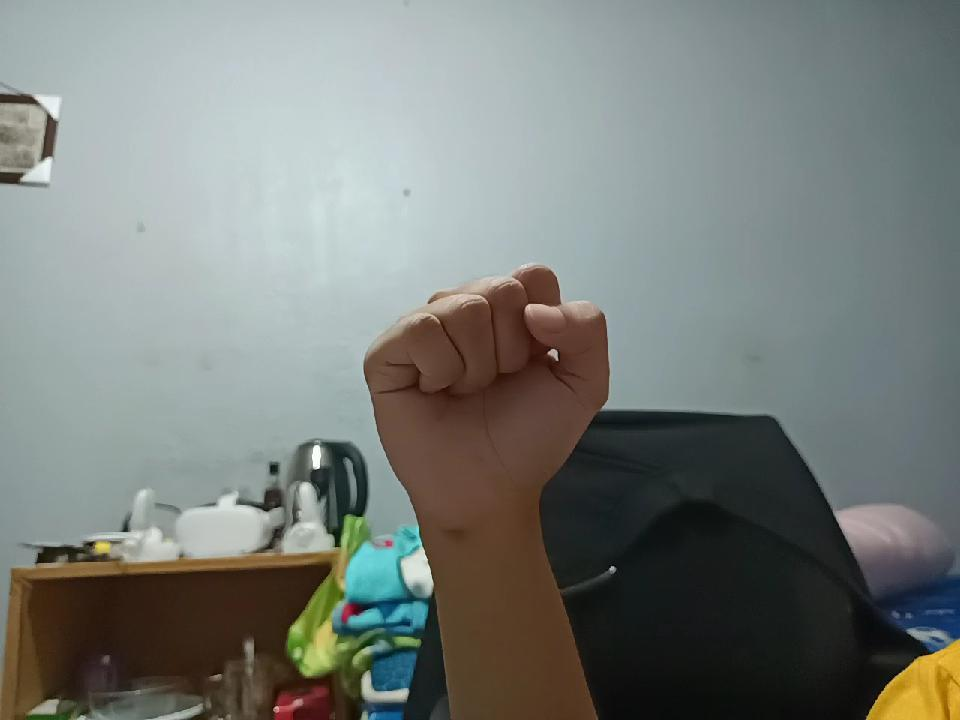rock: (353, 250, 611, 512)
